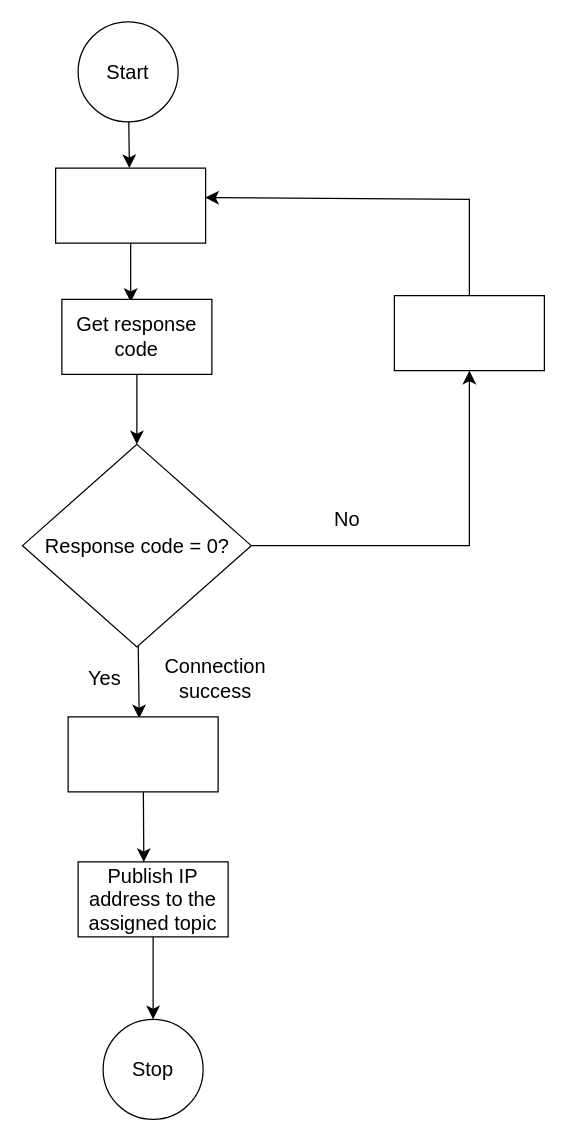
Some shapes in this 566 by 1141 pixel diagram are drawn without their labels. The centre of each missing label's shape, as x and y in pixels:
"Call function to get IP address" belongs at point 142,754.
"Try connecting to broker" belongs at point 130,205.
"Wait 5 seconds" belongs at point 468,332.
